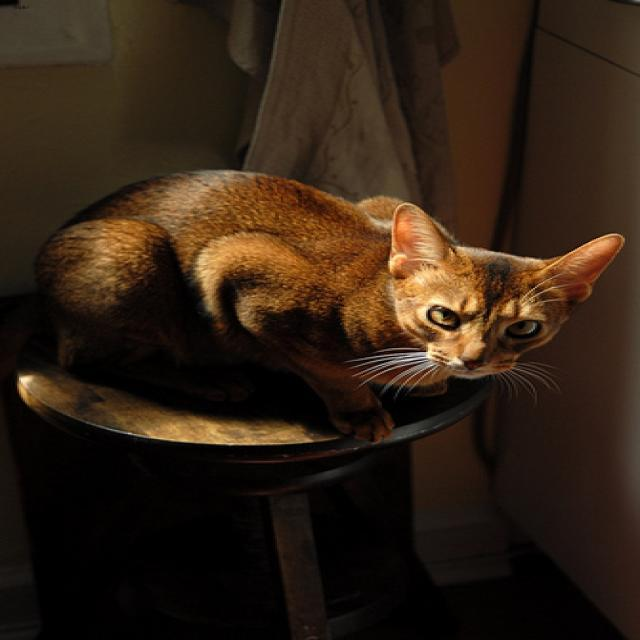Abyssinian: (379, 199, 629, 384)
